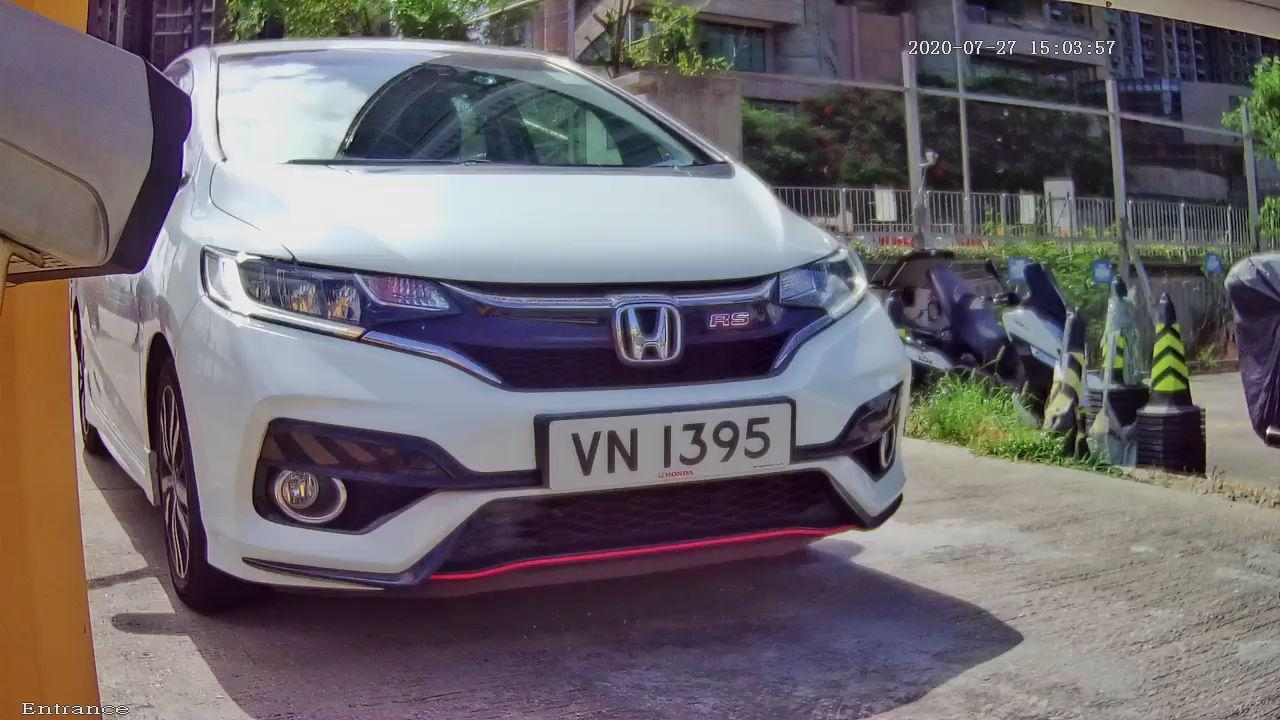privatecar: (86, 29, 972, 650)
